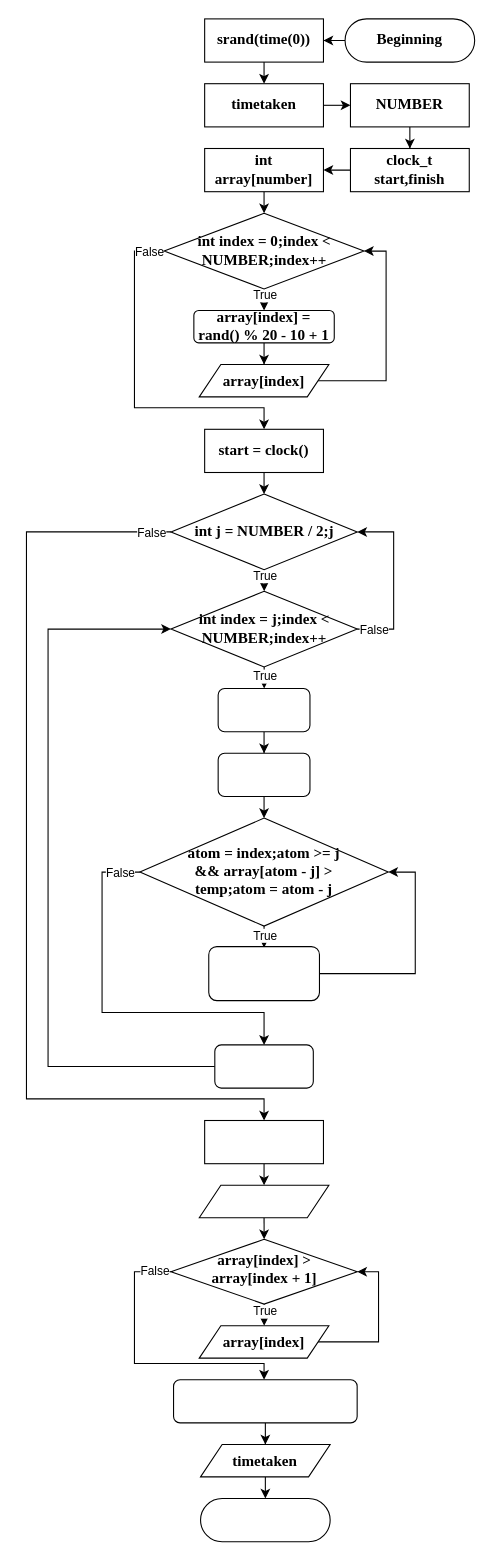
Image size: 494x1561. Some labels were removed from this diagram. Each missing label, with the centre of its shape:
"\n" goes at point (263, 1201).
"array[atom] = array[atom - j]" goes at point (263, 973).
"array[atom] = temp" goes at point (263, 1066).
"atom" goes at point (263, 774).
"End" goes at point (264, 1519).
"finish = clock()" goes at point (263, 1141).
"temp = array[index]" goes at point (263, 709).
"timetaken = (float)(finish - start)/CLOCKS_PER_SEC" goes at point (264, 1401).
